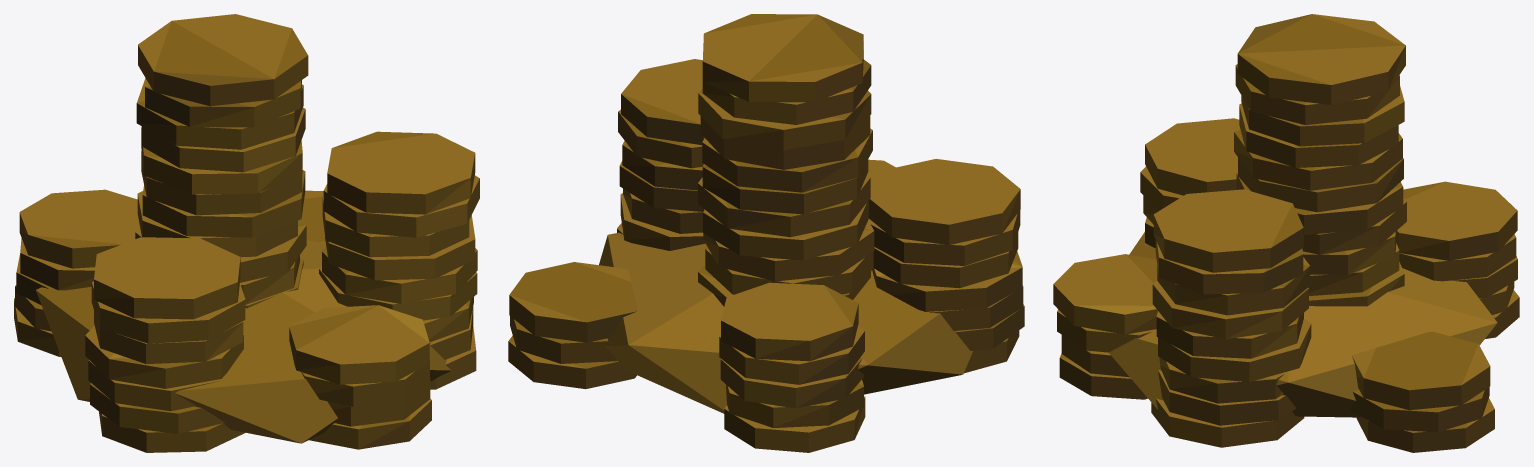
Rendered from coin_stack_large.gltf.
The picture shows the model from 3 angles, left to right: view 1: azimuth 30°, elevation 25°; view 2: azimuth 150°, elevation 25°; view 3: azimuth 270°, elevation 25°; orthographic projection. The views are drawn at different scales.
Visible parts, largest first — view 1: coin_stack_large; view 2: coin_stack_large; view 3: coin_stack_large.
Part boxes in pixels (x1,y1,x2,y2): coin_stack_large: [14, 14, 479, 452]; coin_stack_large: [508, 14, 1024, 452]; coin_stack_large: [1053, 14, 1519, 452].
Size of the model in its own units: 1.38 by 1.04 by 1.46.
1 material, 1 textured.
